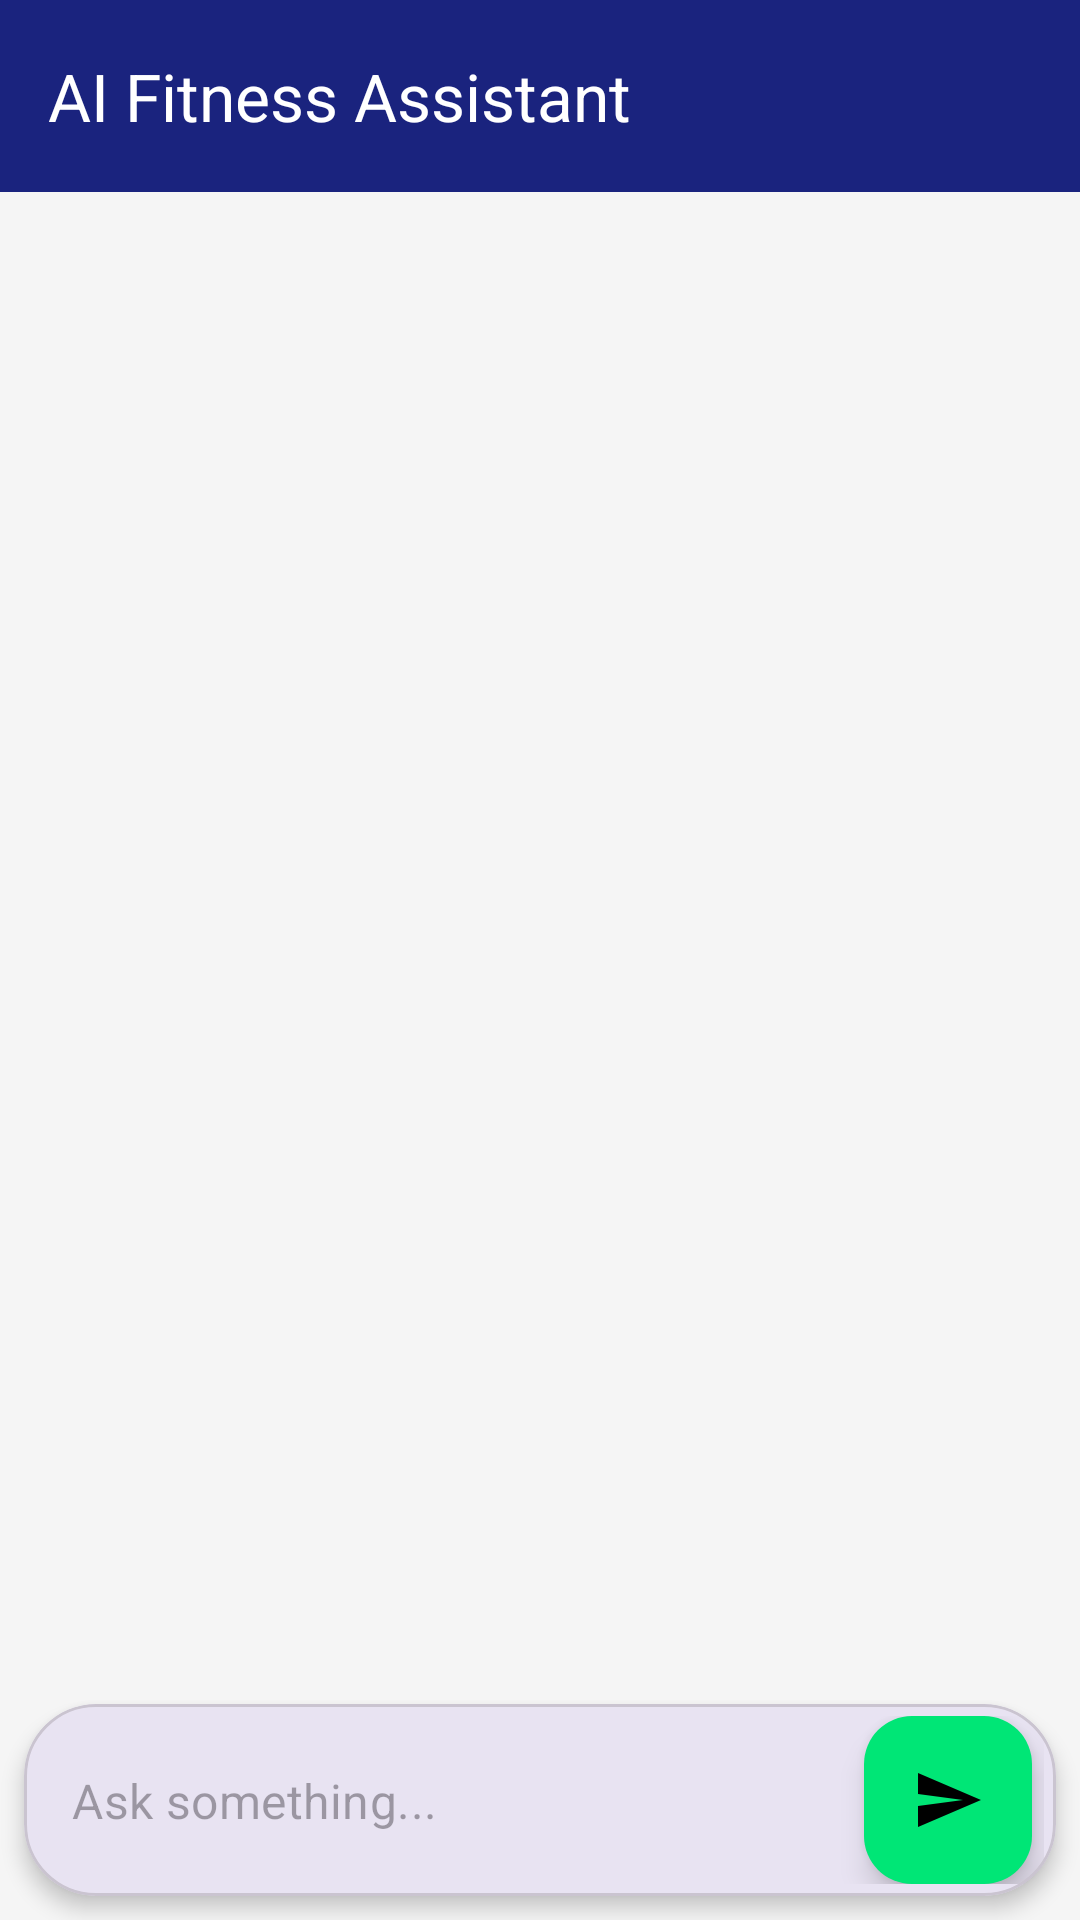

Icons on this 1080px×1920px Android screen, each with its box as (x1, y1, x2, y2):
Send: (864, 1716, 1032, 1884)
